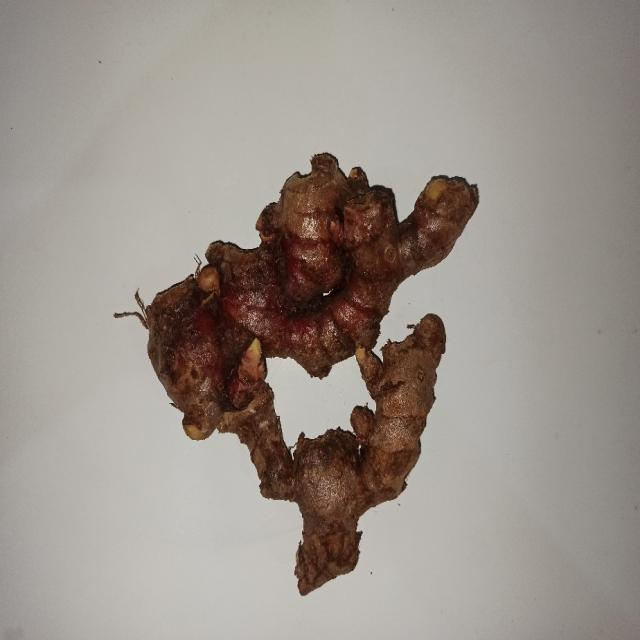ginger: (152, 161, 478, 591)
